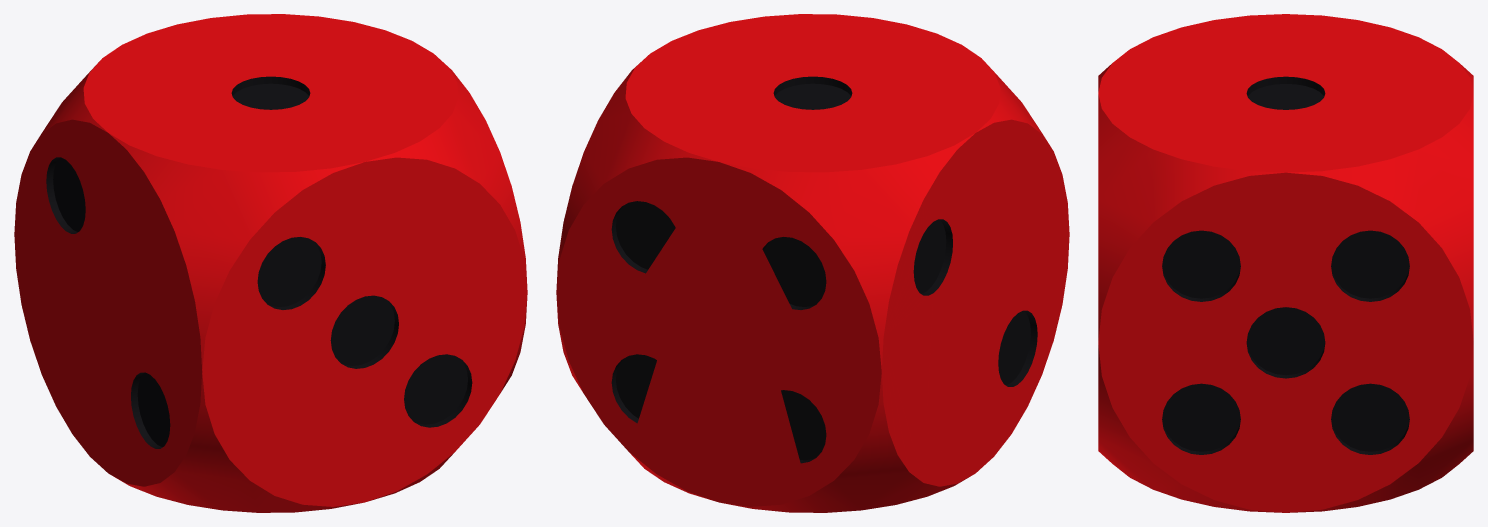
The model's file is Dice_D6.fbx.
3 renders of one model, left to right at view 1: azimuth 30°, elevation 25°; view 2: azimuth 150°, elevation 25°; view 3: azimuth 270°, elevation 25°, orthographic.
Parts seen in each view (by area): view 1: Dice_D6.001; view 2: Dice_D6.001; view 3: Dice_D6.001.
Boxes of the visible parts, box(x1,y1,x2,y2) form: Dice_D6.001: box(14, 14, 527, 512); Dice_D6.001: box(556, 14, 1069, 512); Dice_D6.001: box(1098, 14, 1473, 512).
Size of the model in its own units: 200 by 200 by 200.
